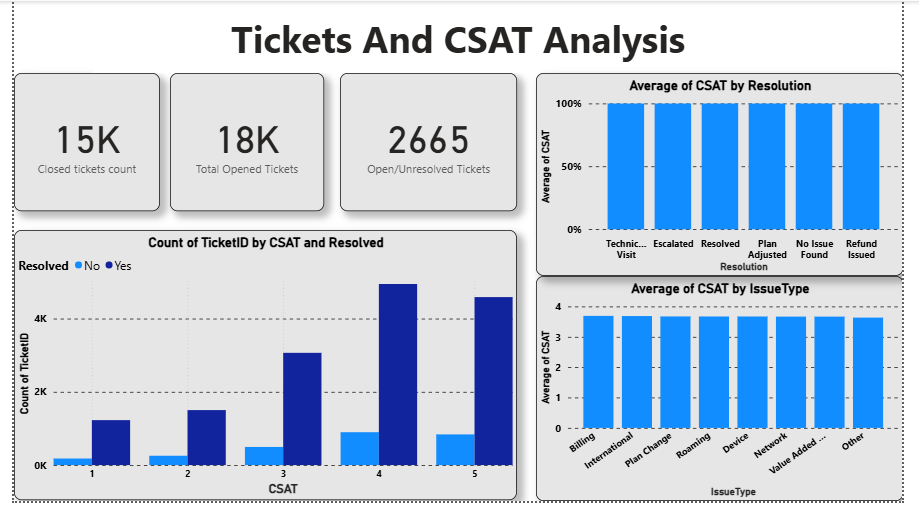

This screenshot's page, from the dashboard's own definition file:
{"tool":"powerbi","page":{"name":"Tickets/CSAT","canvas":[1280,720],"ordinal":7},"visuals":[{"type":"clusteredColumnChart","fields":{"Category":["Telecom_Tickets.CSAT"],"Y":["CountNonNull(Telecom_Tickets.TicketID)"],"Series":["Telecom_Tickets.Resolved"]},"box":[0,330.4,724.3,388.8],"z":0},{"type":"clusteredColumnChart","fields":{"Category":["Telecom_Tickets.IssueType"],"Y":["Avg(Telecom_Tickets.CSAT)"]},"box":[751,395.5,529,323.8],"z":1000},{"type":"card","fields":{"Values":["Measure.Closed tickets count"]},"box":[0,103.5,210.3,198.6],"z":2000},{"type":"card","fields":{"Values":["Measure.Opened Tickets Count"]},"box":[225.3,103.5,222,198.6],"z":3000},{"type":"card","fields":{"Values":["Measure.Tickets No Closed"]},"box":[468.9,103.5,255.3,198.6],"z":4000},{"type":"textbox","box":[113.8,11.5,1051.2,92.2],"z":5000},{"type":"hundredPercentStackedColumnChart","fields":{"Category":["Telecom_Tickets.Resolution"],"Y":["Avg(Telecom_Tickets.CSAT)"]},"box":[751,103.5,529,292],"z":6000}]}

Visuals, with their boxes in screenshot pixels (x1, y1, x2, y2), scaled from the page's 1280x720 canvas onto the 919x506 screenshot:
clusteredColumnChart - Telecom_Tickets.CSAT x CountNonNull(Telecom_Tickets.TicketID): [x1=0, y1=232, x2=520, y2=505]
clusteredColumnChart - Telecom_Tickets.IssueType x Avg(Telecom_Tickets.CSAT): [x1=539, y1=278, x2=918, y2=505]
card - Measure.Closed tickets count: [x1=0, y1=73, x2=151, y2=212]
card - Measure.Opened Tickets Count: [x1=162, y1=73, x2=321, y2=212]
card - Measure.Tickets No Closed: [x1=337, y1=73, x2=520, y2=212]
textbox: [x1=82, y1=8, x2=836, y2=73]
hundredPercentStackedColumnChart - Telecom_Tickets.Resolution x Avg(Telecom_Tickets.CSAT): [x1=539, y1=73, x2=918, y2=278]
